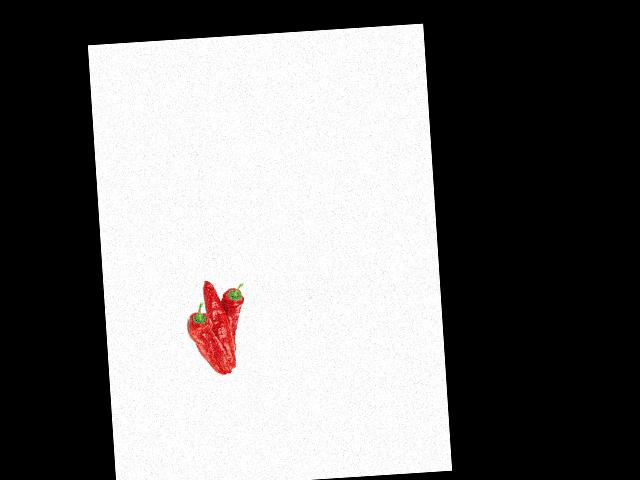bell_pepper: (183, 299, 223, 378)
